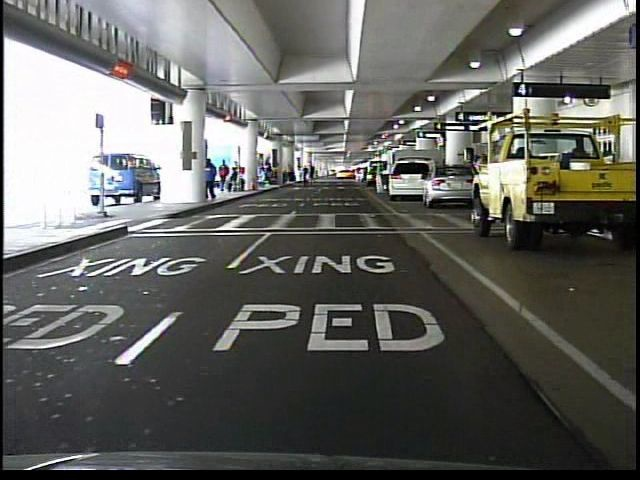person: (202, 155, 220, 204)
